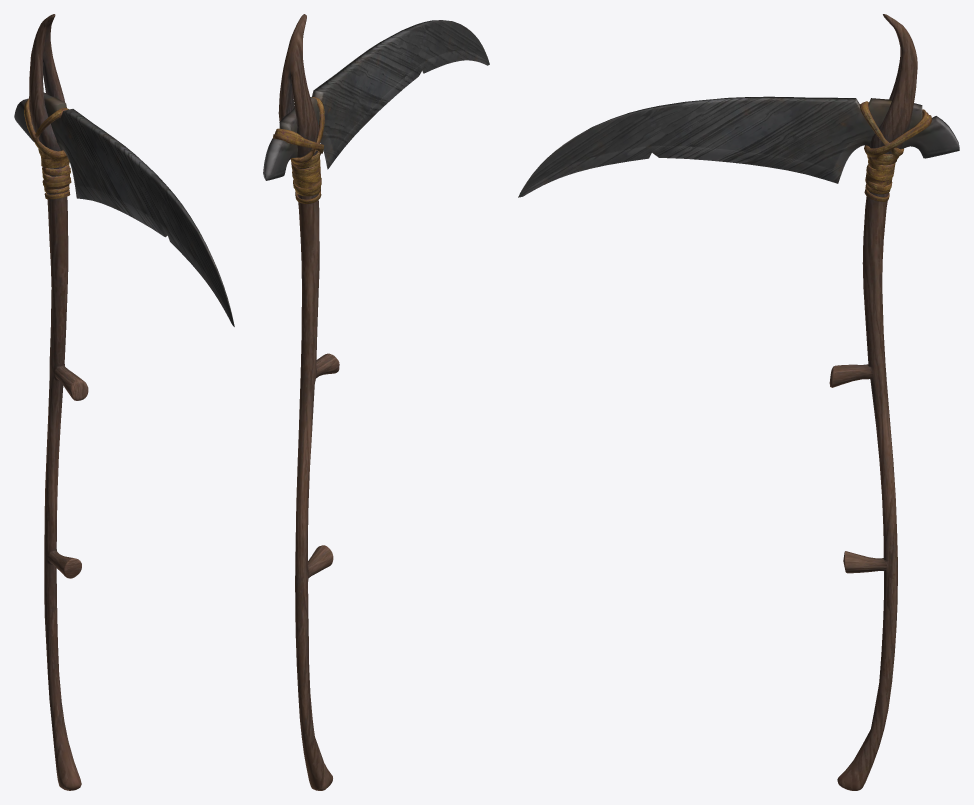
3 renders of one model, left to right at view 1: azimuth 30°, elevation 25°; view 2: azimuth 150°, elevation 25°; view 3: azimuth 270°, elevation 25°, orthographic. The views are drawn at different scales.
Visible parts, largest first — view 1: SM_Death_Scythe_2H_01_LOD0; view 2: SM_Death_Scythe_2H_01_LOD0; view 3: SM_Death_Scythe_2H_01_LOD0.
Boxes of the visible parts, x1=… form: SM_Death_Scythe_2H_01_LOD0: x1=14, y1=14, x2=234, y2=790; SM_Death_Scythe_2H_01_LOD0: x1=263, y1=14, x2=489, y2=790; SM_Death_Scythe_2H_01_LOD0: x1=518, y1=14, x2=959, y2=790.
Bounding box in the file's own units: 0.1645 × 3.41 × 1.76.
1 material, 1 textured.
